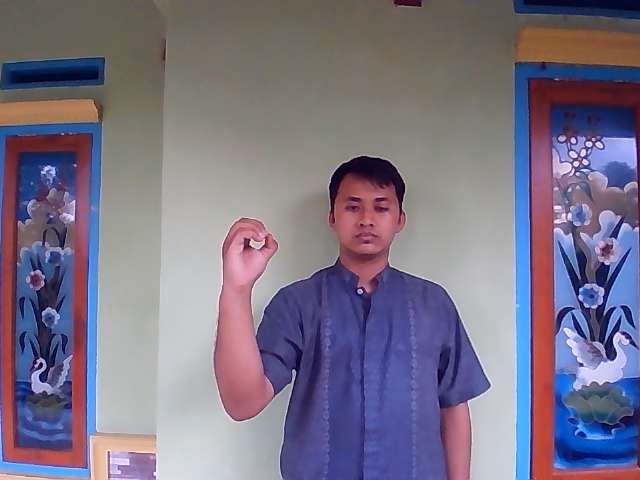O: (220, 217, 279, 289)
